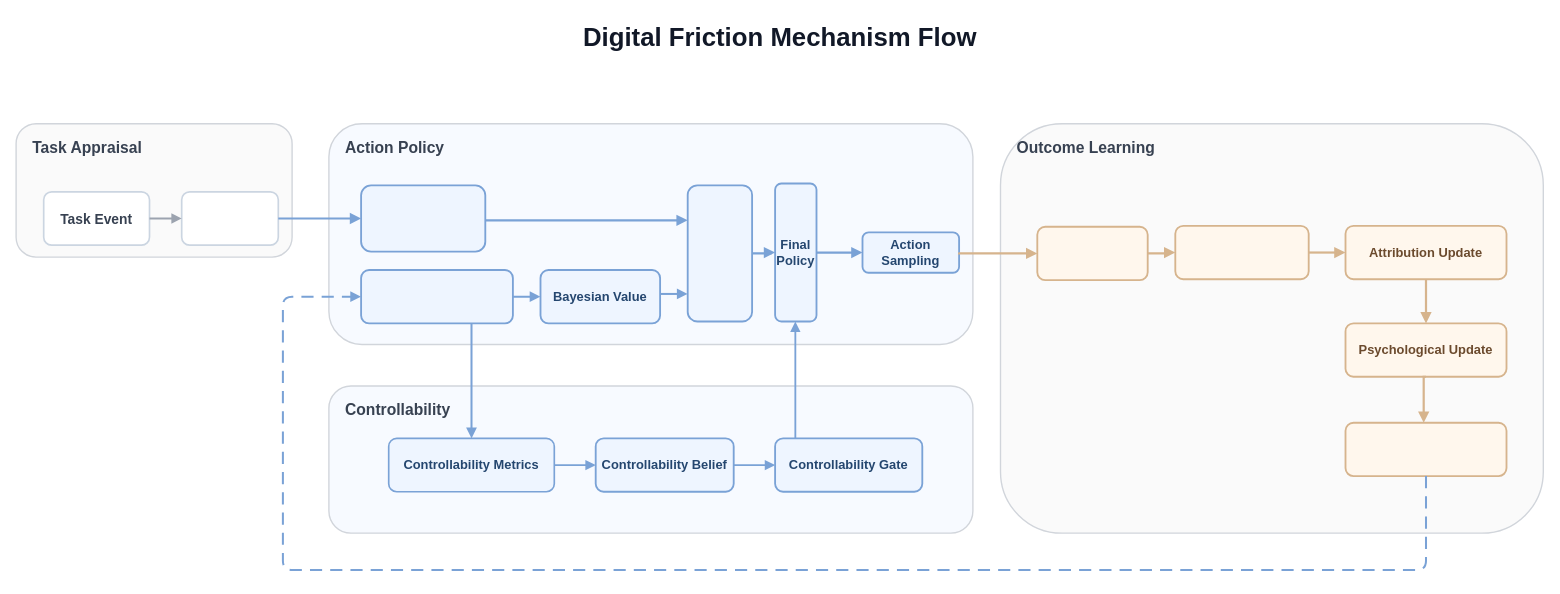
The diagram is 1560 pixels wide and 594 high, and some of its shapes have lost their labels. The shapes that lost their labels are listed below. From the top down, each one's centre as x and y in pixels, then its label:
At point (229, 218): "LLM Appraisal".
At point (423, 218): "LLM Reference Policy".
At point (719, 253): "Evidence Gate".
At point (1092, 253): "Task Outcome".
At point (1241, 252): "Uncontrollability Appraisal".
At point (436, 296): "Posterior Memory".
At point (1425, 449): "Memory Update".
